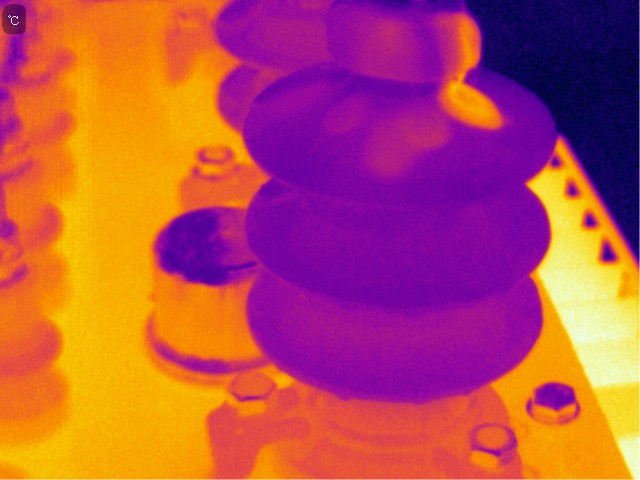Oil: (430, 11, 514, 142), (329, 102, 444, 184), (345, 11, 419, 82)
